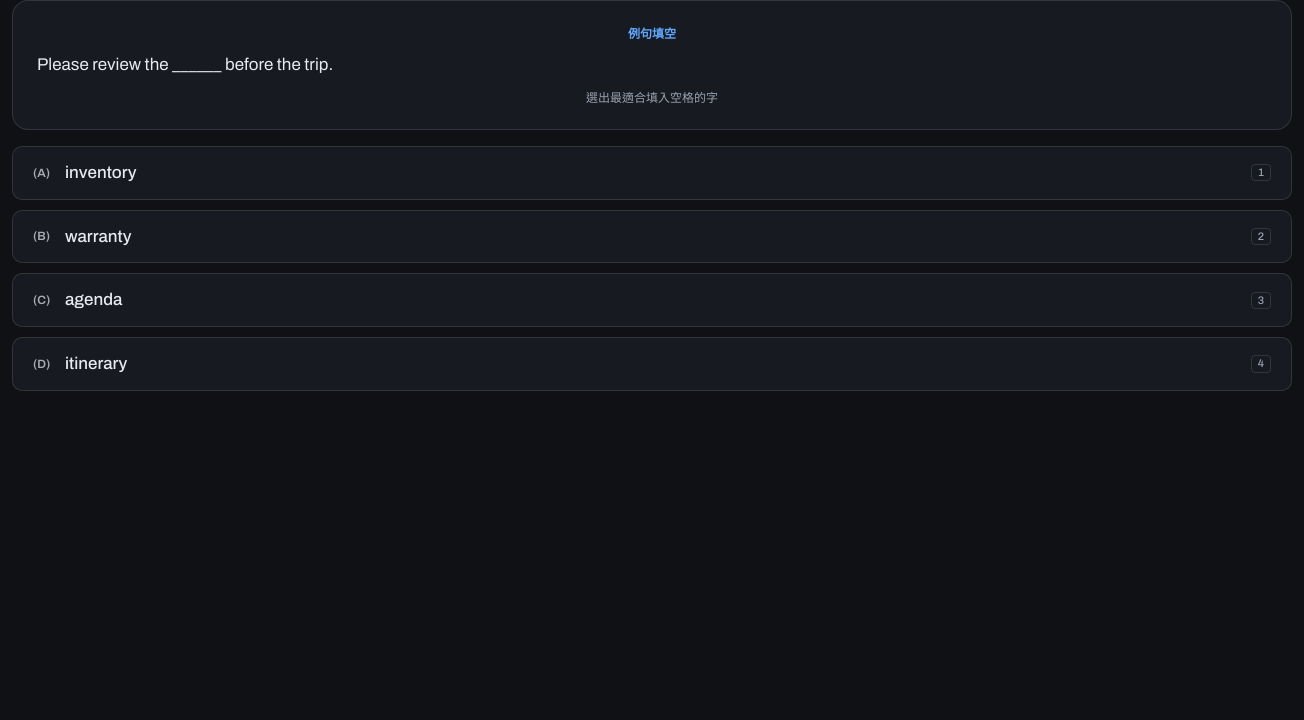
VocabQuiz › shows the filled-in sentence in the cloze explanation, not the blanked one
Click the button "(D) itinerary 4". click: (96, 364)
box: [12,337,1292,391]
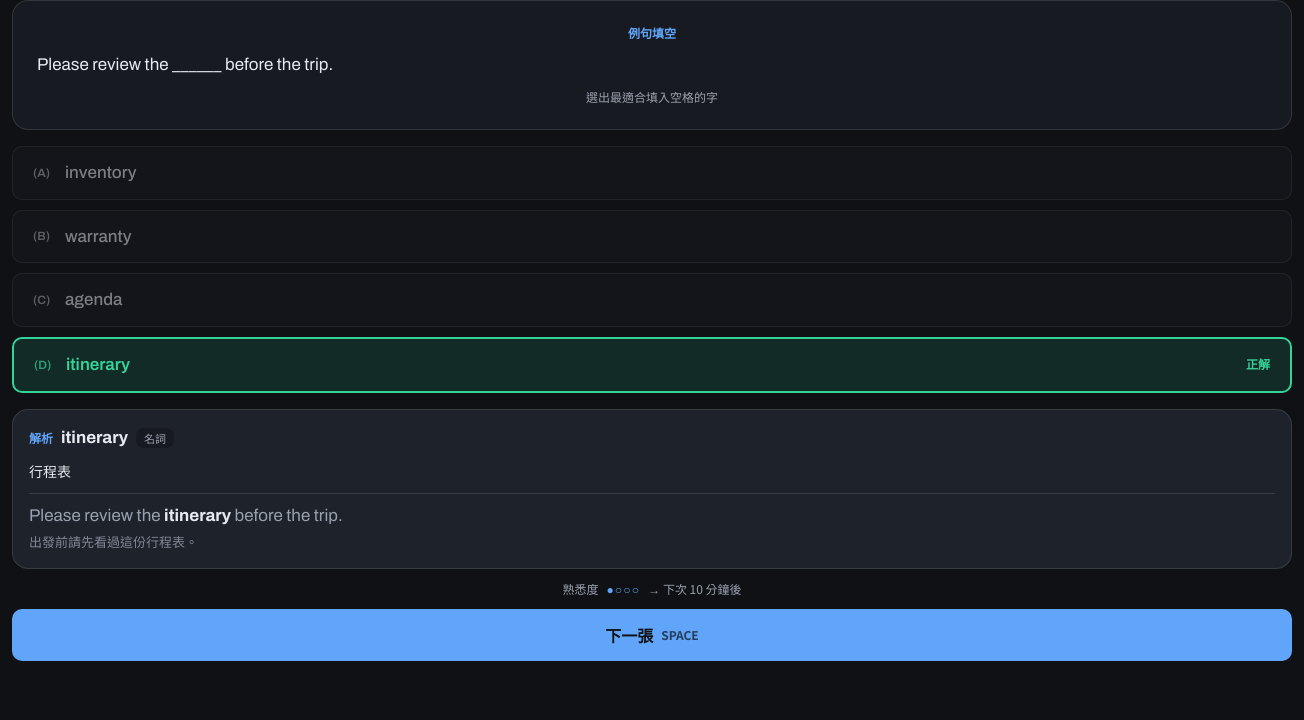
Check: the text "Please review the ______ before the trip." is shown, box [37,55,333,74]
Check: the text "Please review the itinerary before the trip." is shown, box [29,506,343,524]
